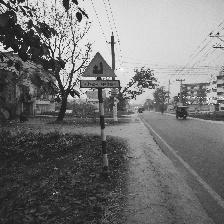Mosque in front: (80, 52, 119, 89)
